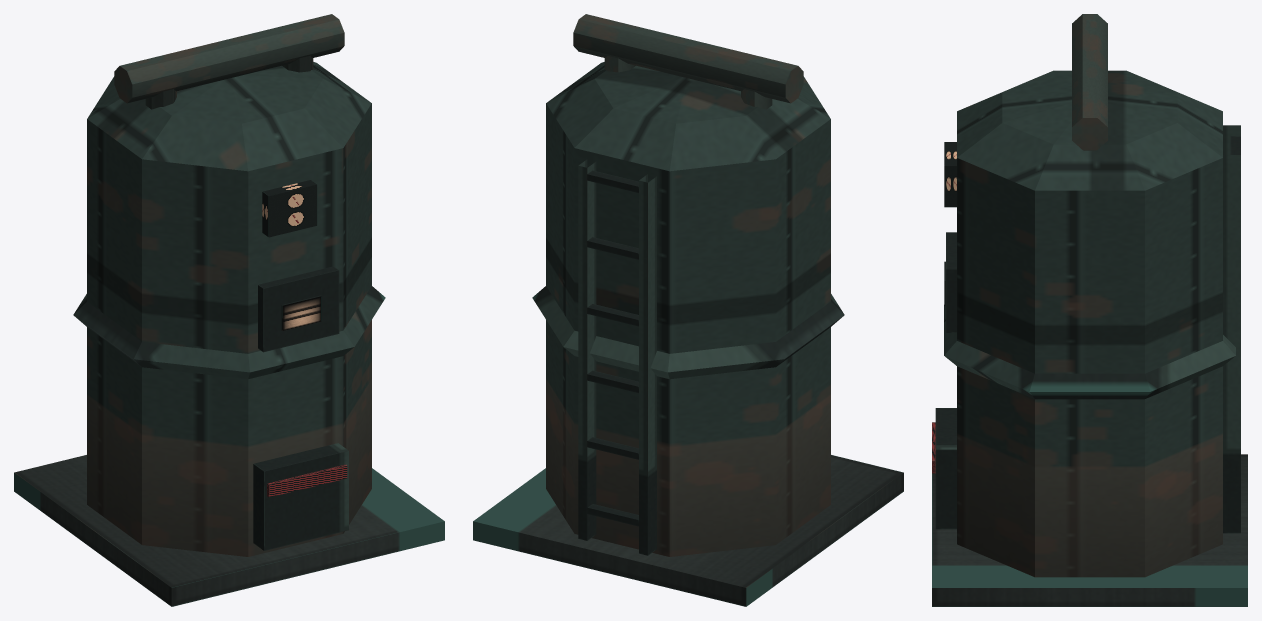
Rendered from SM_MachProp_Boiler_Main_180x180x300.fbx.
3 renders of one model, left to right at view 1: azimuth 30°, elevation 25°; view 2: azimuth 150°, elevation 25°; view 3: azimuth 270°, elevation 25°, orthographic.
Visible parts, largest first — view 1: SM_MachProp_Boiler_Main_180x180x300.001; view 2: SM_MachProp_Boiler_Main_180x180x300.001; view 3: SM_MachProp_Boiler_Main_180x180x300.001.
Part boxes in pixels (x1,y1,x2,y2): SM_MachProp_Boiler_Main_180x180x300.001: [14, 14, 444, 606]; SM_MachProp_Boiler_Main_180x180x300.001: [473, 14, 903, 606]; SM_MachProp_Boiler_Main_180x180x300.001: [932, 14, 1247, 606].
Size of the model in its own units: 1.8 by 2.98 by 1.8.
